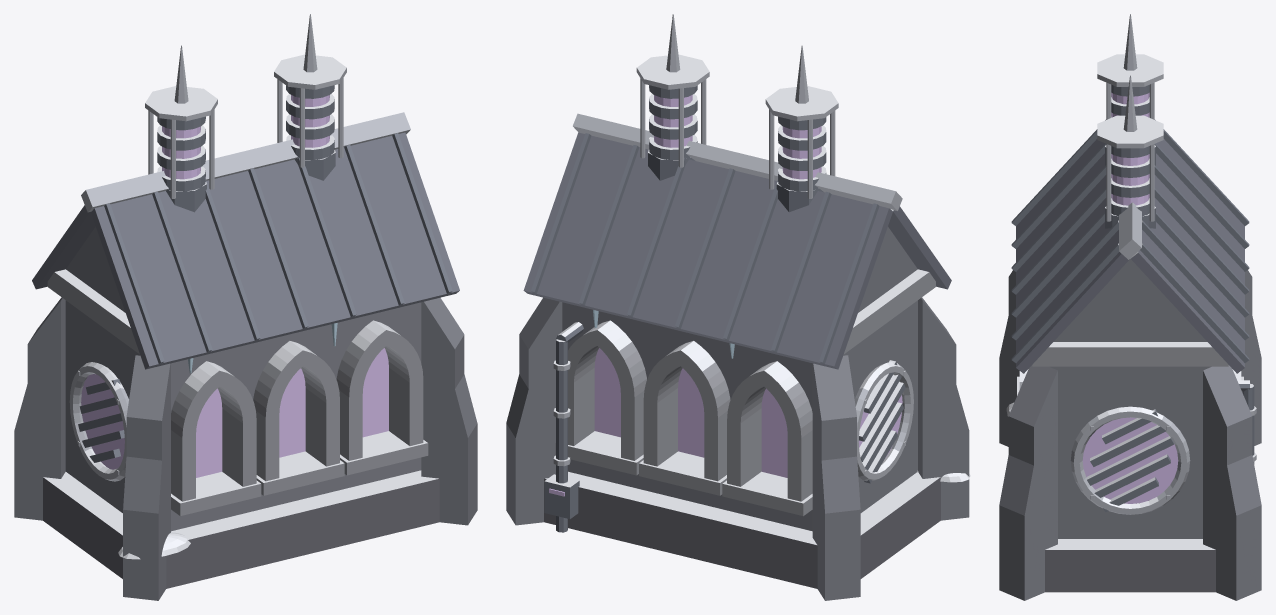
The model's file is PR_Gerador.fbx.
3 views of the same model, side by side, from view 1: azimuth 30°, elevation 25°; view 2: azimuth 150°, elevation 25°; view 3: azimuth 270°, elevation 25° (orthographic). The views are drawn at different scales.
Parts seen in each view (by area): view 1: PR_Gerador; view 2: PR_Gerador; view 3: PR_Gerador.
Part boxes in pixels (box(x1,y1,x2,y2)): PR_Gerador: box(14, 14, 477, 600); PR_Gerador: box(506, 14, 970, 600); PR_Gerador: box(999, 14, 1261, 600).
Size of the model in its own units: 4.7 by 6.1 by 3.07.
